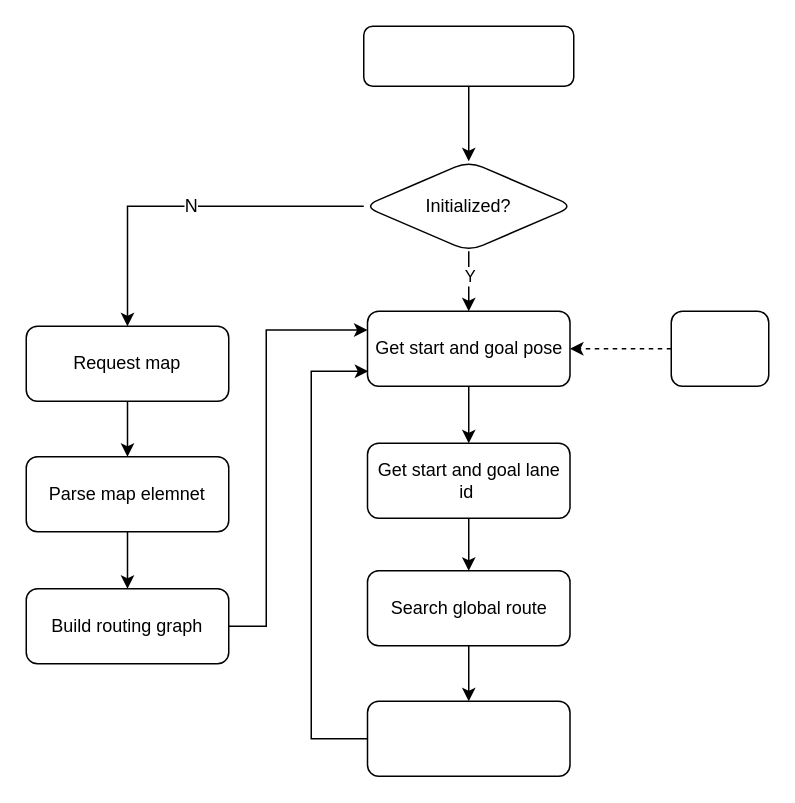
Some shapes in this 795 by 803 pixel diagram are drawn without their labels. The shapes that lost their labels are listed below. From the top down, each one's centre as x and y in pixels, then its label:
At [468,55]: "Node initialization".
At [719,348]: "pose msg".
At [468,738]: "Publish route".
